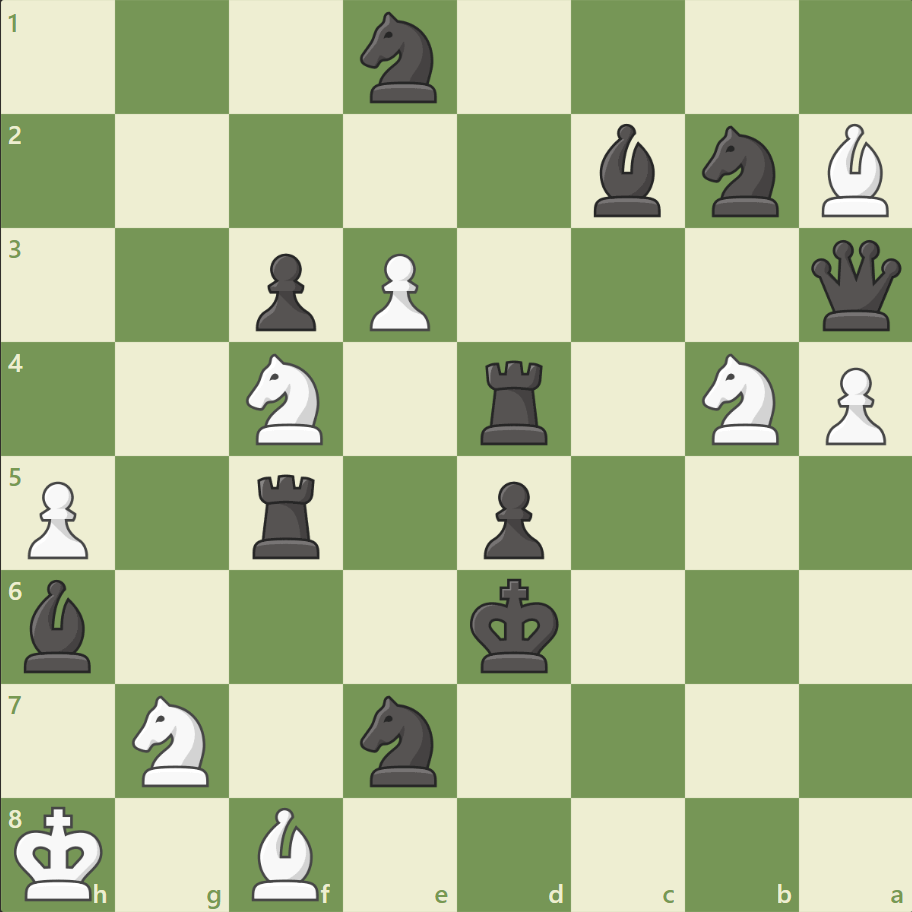B: (244, 801, 328, 904), (812, 120, 896, 222)
K: (11, 798, 111, 906)
N: (124, 688, 222, 791), (692, 348, 789, 450), (238, 348, 335, 450)
P: (20, 473, 95, 564), (815, 359, 889, 450), (361, 246, 435, 337)
b: (17, 574, 101, 676), (585, 120, 669, 222)
k: (465, 571, 565, 679)
n: (351, 688, 449, 791), (351, 7, 449, 110), (692, 121, 789, 223)
p: (474, 473, 549, 564), (247, 246, 322, 337)
q: (805, 236, 904, 335)
r: (246, 466, 329, 563), (473, 352, 556, 449)
